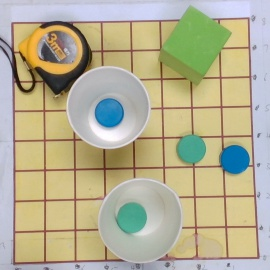blue: (219, 144, 251, 175)
cup_blue: (65, 65, 153, 150)
cup_green: (98, 172, 185, 263)
green: (177, 134, 206, 163)
